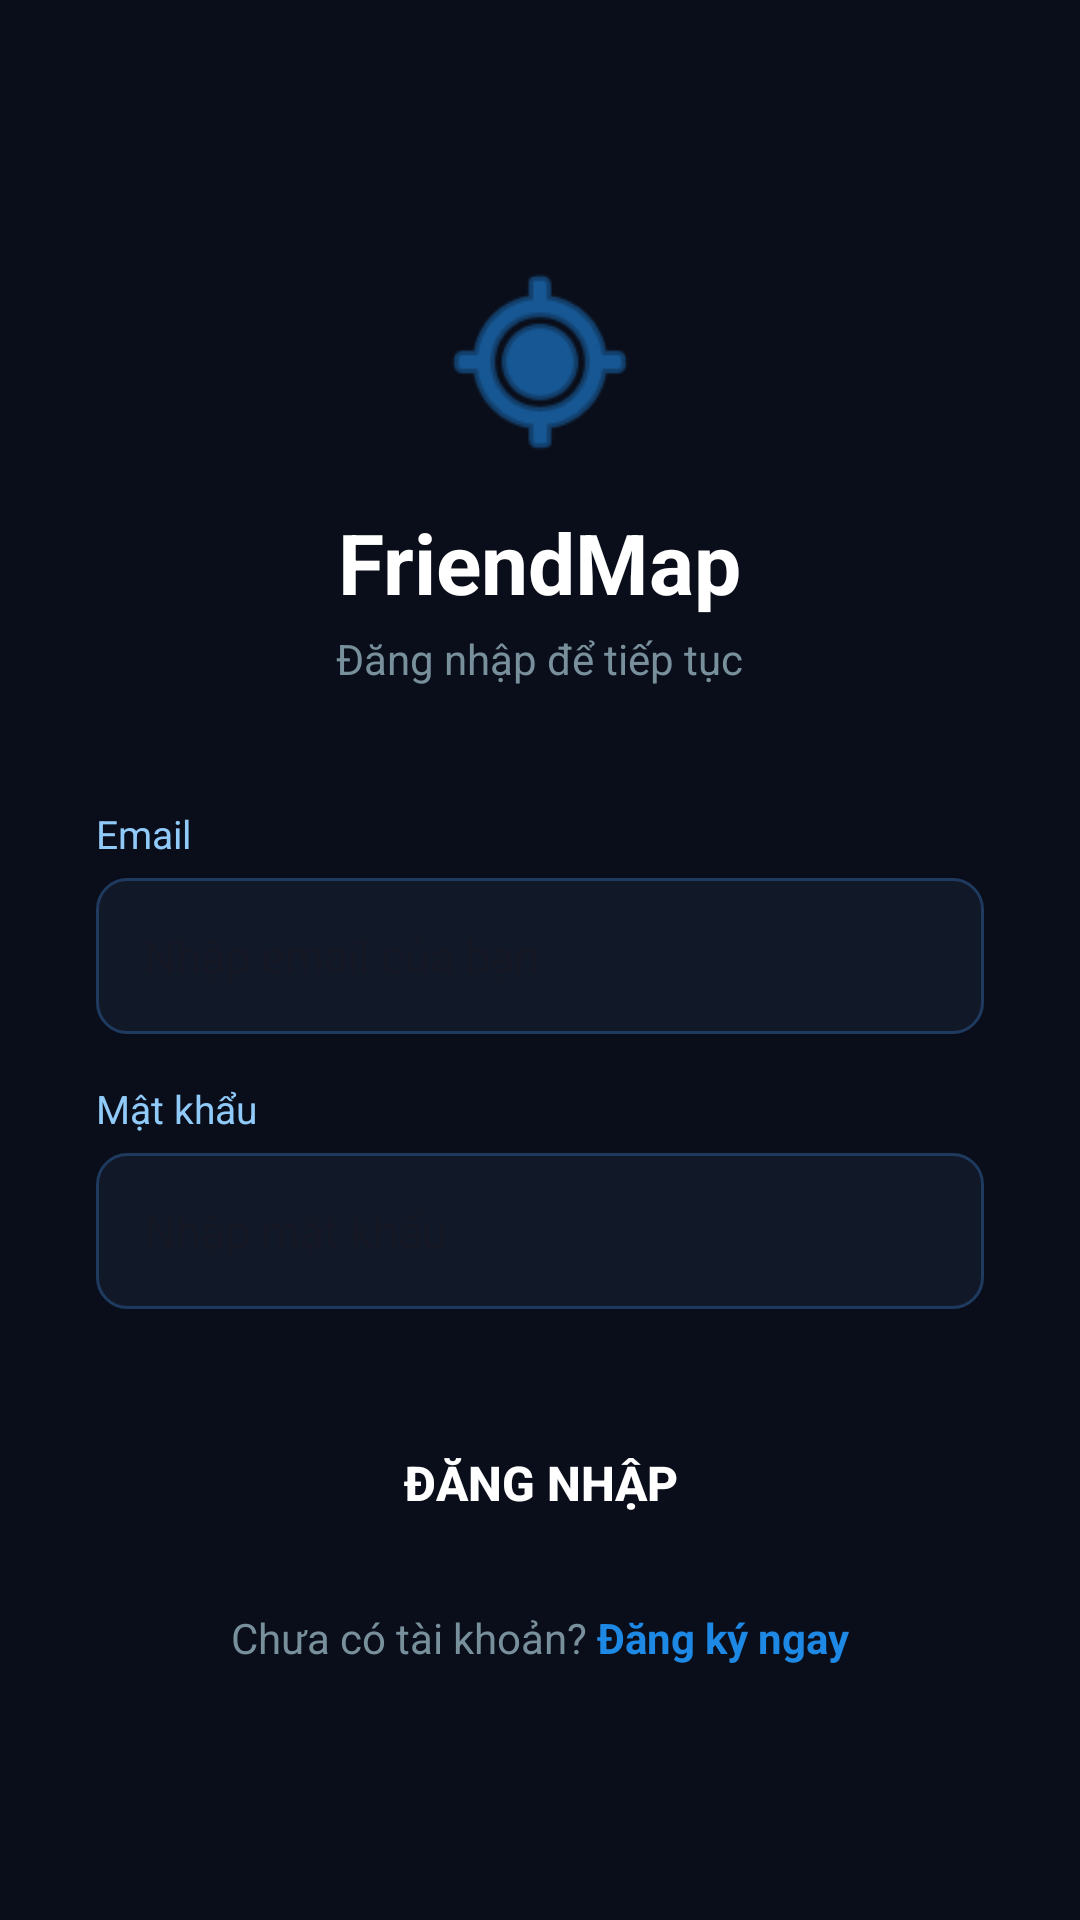

Screen size 1080px x 1920px. Icon name, then its center in pixels as (x,y):
mylocation: (540,362)
